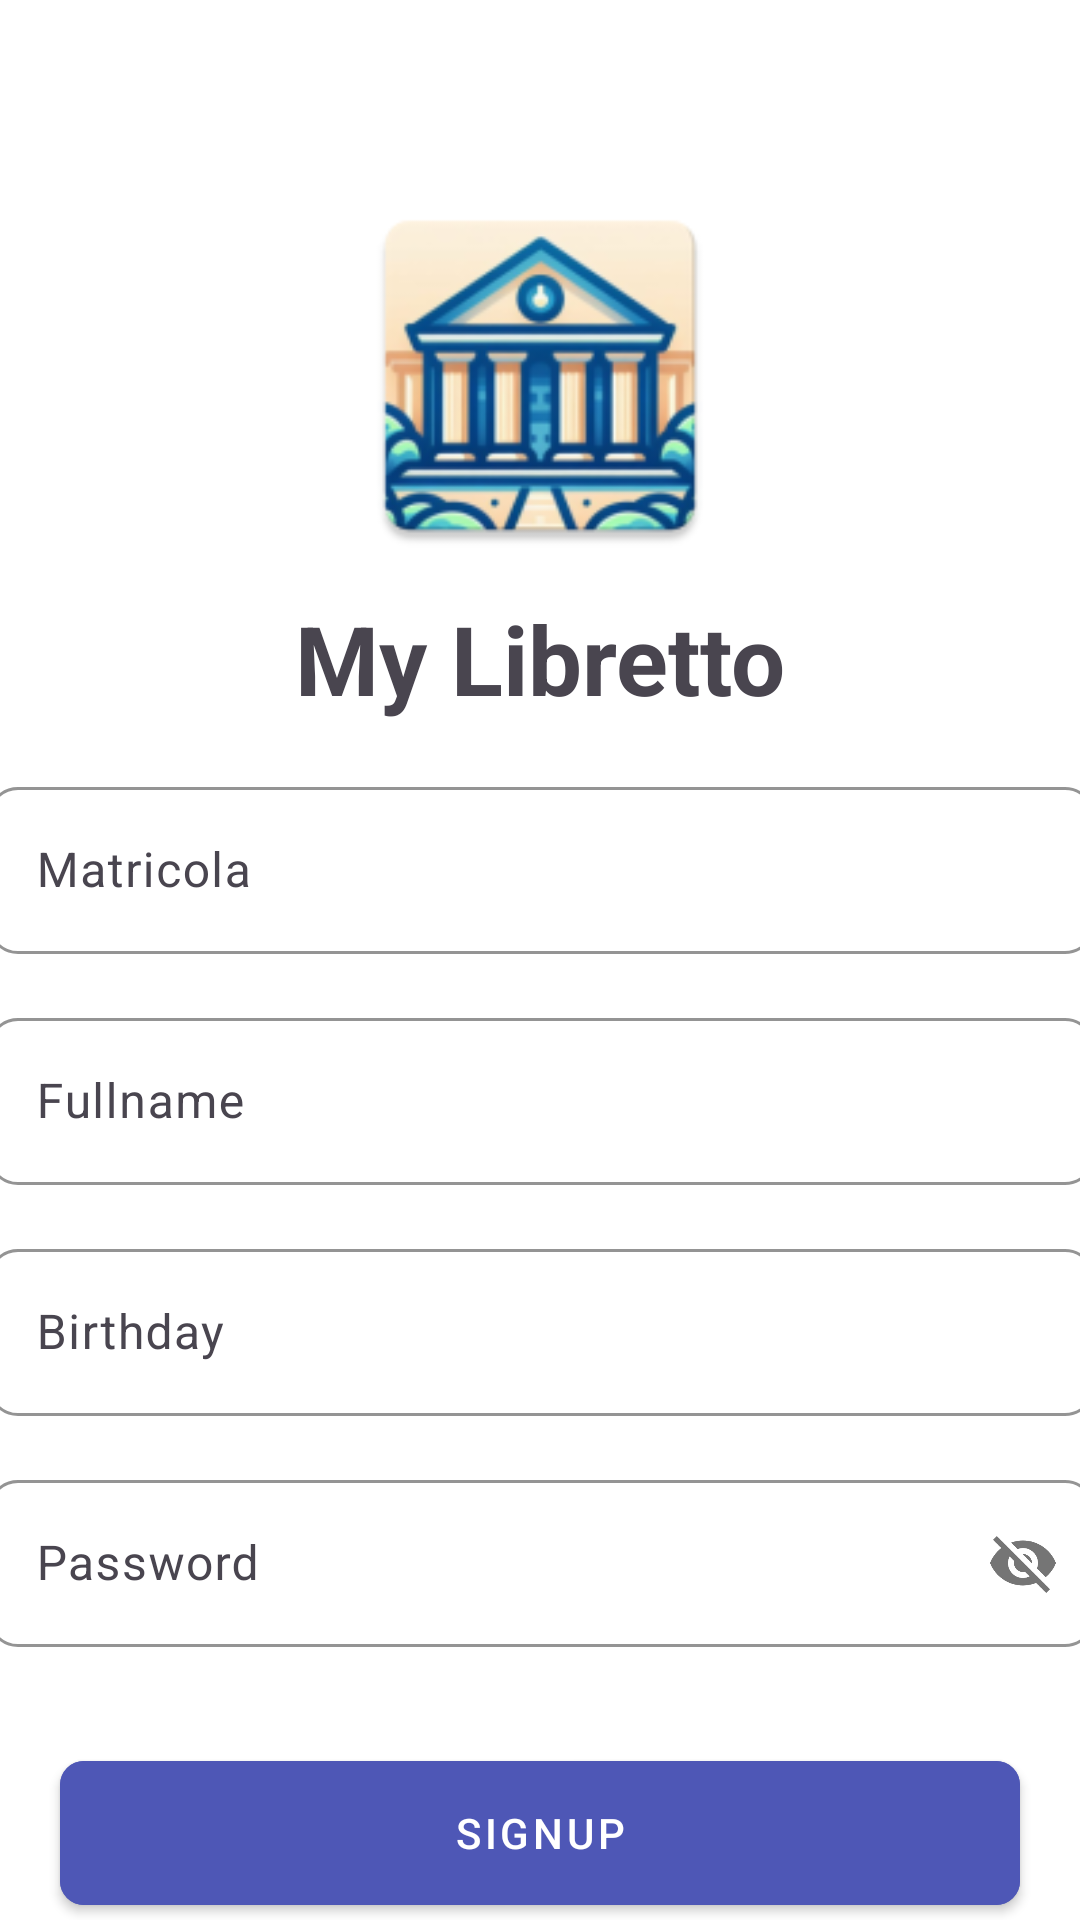

Icon bounding boxes for this 1080px x 1920px phone screenshot, format (x1, y1, x2, y2):
App icon: (383, 221, 698, 539)
